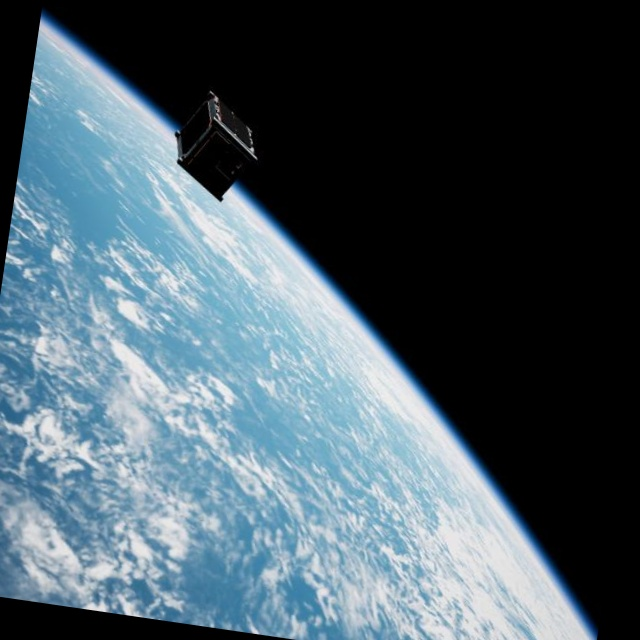medium_debris: (161, 85, 267, 214)
